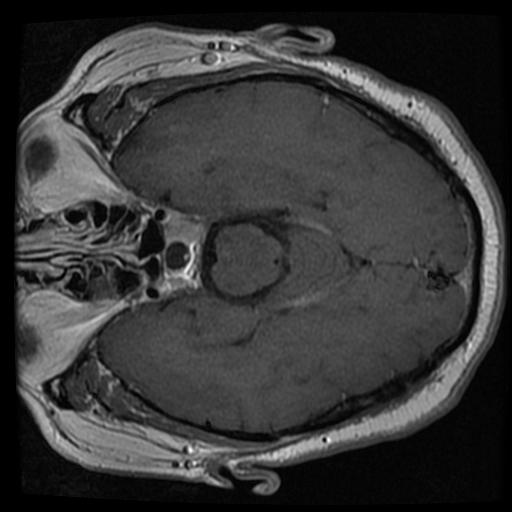pituitary tumour: (163, 216, 204, 295)
